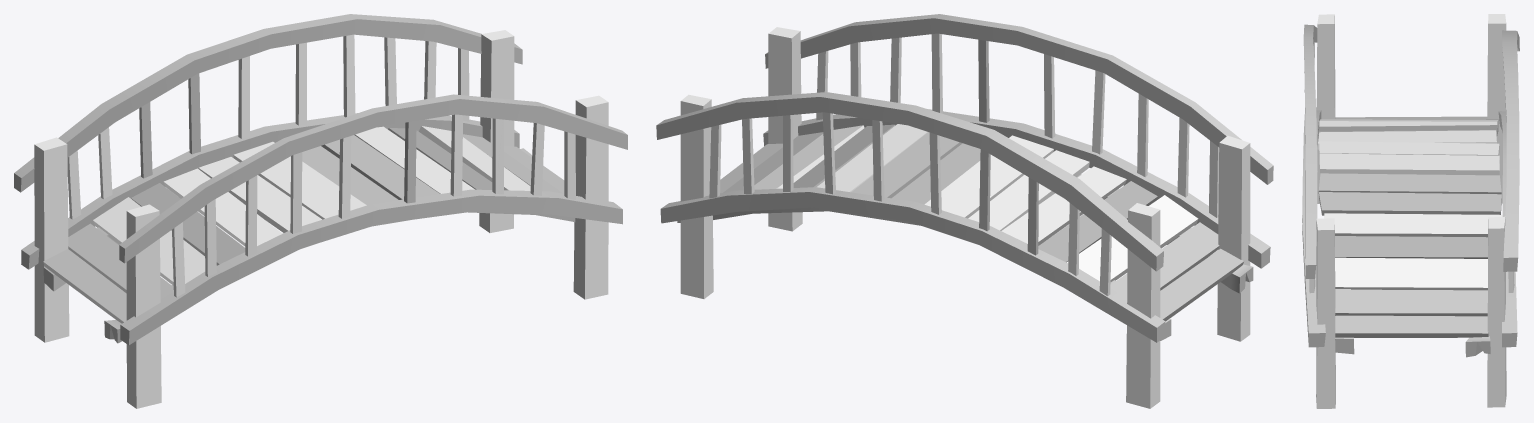
Rendered from PT_Wooden_Bridge_02.glb.
3 views of the same model, side by side, from view 1: azimuth 30°, elevation 25°; view 2: azimuth 150°, elevation 25°; view 3: azimuth 270°, elevation 25° (orthographic). The views are drawn at different scales.
Parts seen in each view (by area): view 1: PT_Wooden_Bridge_02_LOD0; view 2: PT_Wooden_Bridge_02_LOD0; view 3: PT_Wooden_Bridge_02_LOD0.
Boxes of the visible parts, left/top/right/bottom form: PT_Wooden_Bridge_02_LOD0: left=14, top=14, right=627, bottom=408; PT_Wooden_Bridge_02_LOD0: left=656, top=14, right=1273, bottom=408; PT_Wooden_Bridge_02_LOD0: left=1302, top=14, right=1519, bottom=408.
Size of what is drawn, in the model's own units: 4.47 by 2.08 by 1.79.
1 material, 1 textured.
